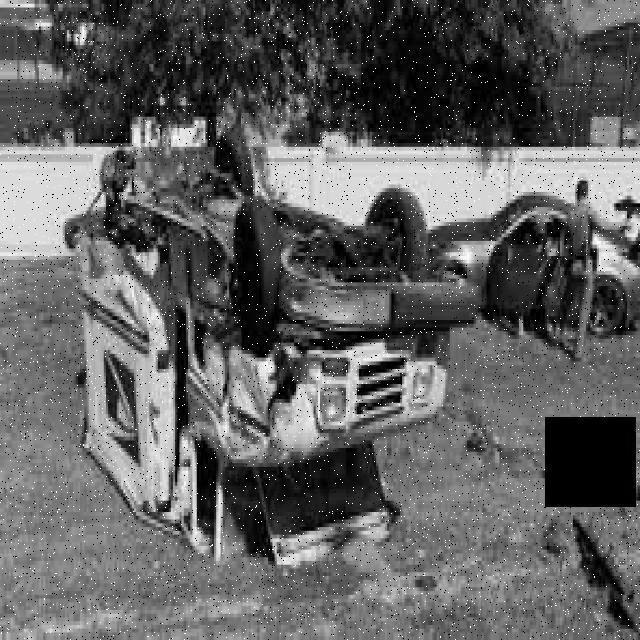accident: (66, 109, 481, 572)
vehicle: (419, 165, 640, 348)
